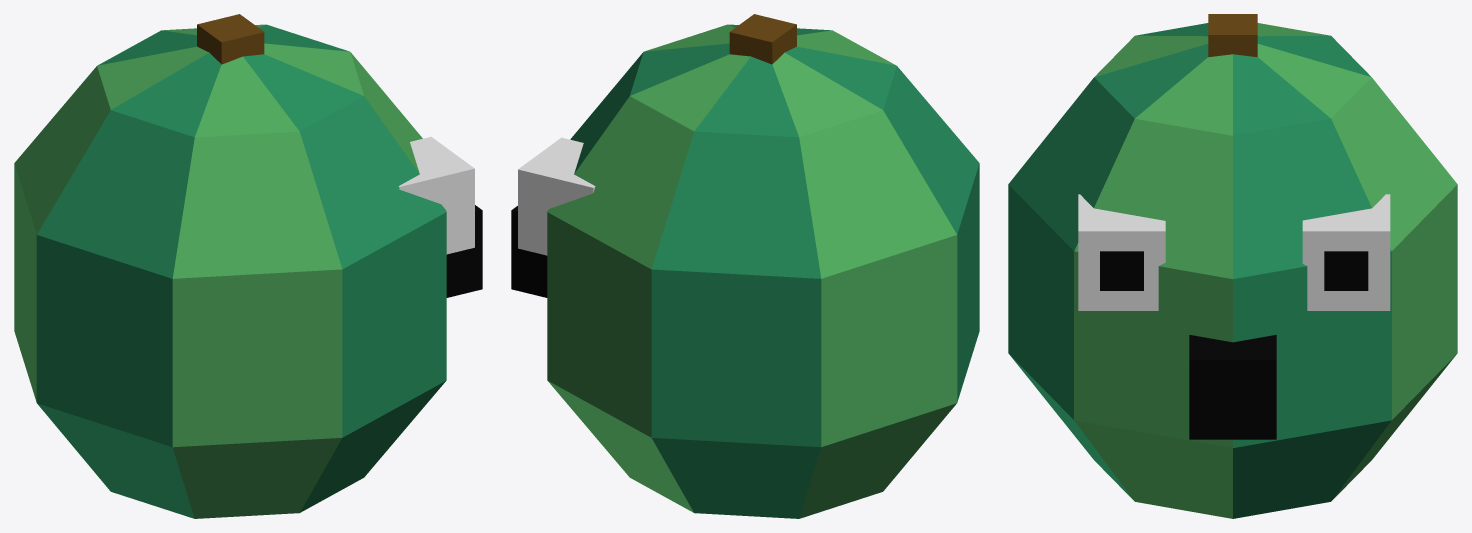
Rendered from WatermelonEnemy.fbx.
The picture shows the model from 3 angles, left to right: view 1: azimuth 30°, elevation 25°; view 2: azimuth 150°, elevation 25°; view 3: azimuth 270°, elevation 25°; orthographic projection.
Visible parts, largest first — view 1: Body, R_Eye, Stem, Mouth; view 2: Body, L_Eye, Stem, Mouth; view 3: Body, Mouth, L_Eye, R_Eye, Stem.
Boxes of the visible parts, left/top/right/bottom form: Body: left=14, top=24, right=446, bottom=518; R_Eye: left=398, top=136, right=474, bottom=254; Stem: left=197, top=14, right=264, bottom=64; Mouth: left=446, top=205, right=482, bottom=297; Body: left=547, top=24, right=979, bottom=518; L_Eye: left=518, top=137, right=595, bottom=255; Stem: left=729, top=14, right=796, bottom=64; Mouth: left=511, top=206, right=547, bottom=297; Body: left=1008, top=23, right=1457, bottom=518; Mouth: left=1189, top=335, right=1276, bottom=439; L_Eye: left=1302, top=194, right=1390, bottom=310; R_Eye: left=1078, top=194, right=1165, bottom=310; Stem: left=1208, top=14, right=1257, bottom=57.
Size of the model in its own units: 2.08 by 1.9 by 2.23.
